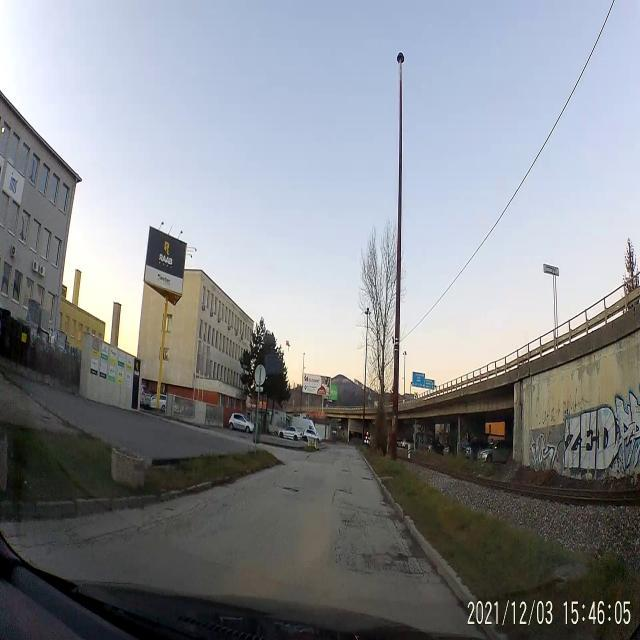Pothole: (366, 548, 420, 577), (280, 484, 302, 501), (336, 485, 353, 496), (361, 474, 374, 484), (292, 466, 298, 476), (342, 467, 349, 475)
